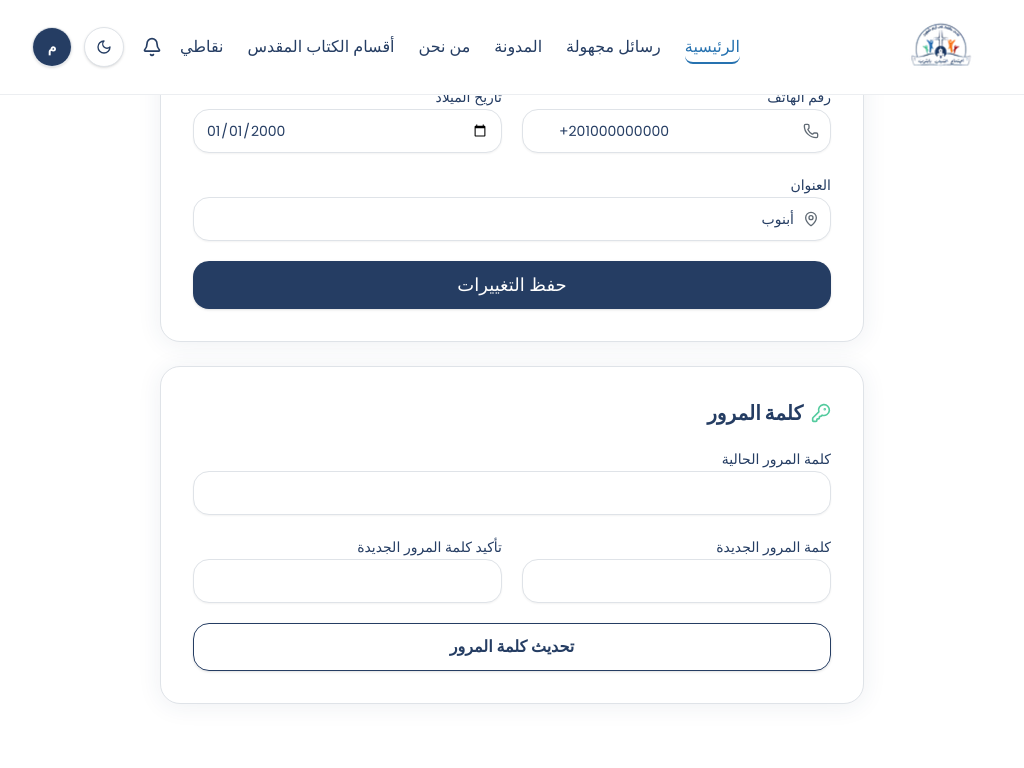
Test: the page of the profile › refuses a weak password
The width and height of the screenshot is (1024, 768).
(page scrolled)
Step 1. Type "OldPass!2026" into the password field labelled "كلمة المرور الحالية" → (512, 493), box [193,471,831,515]
(page scrolled)
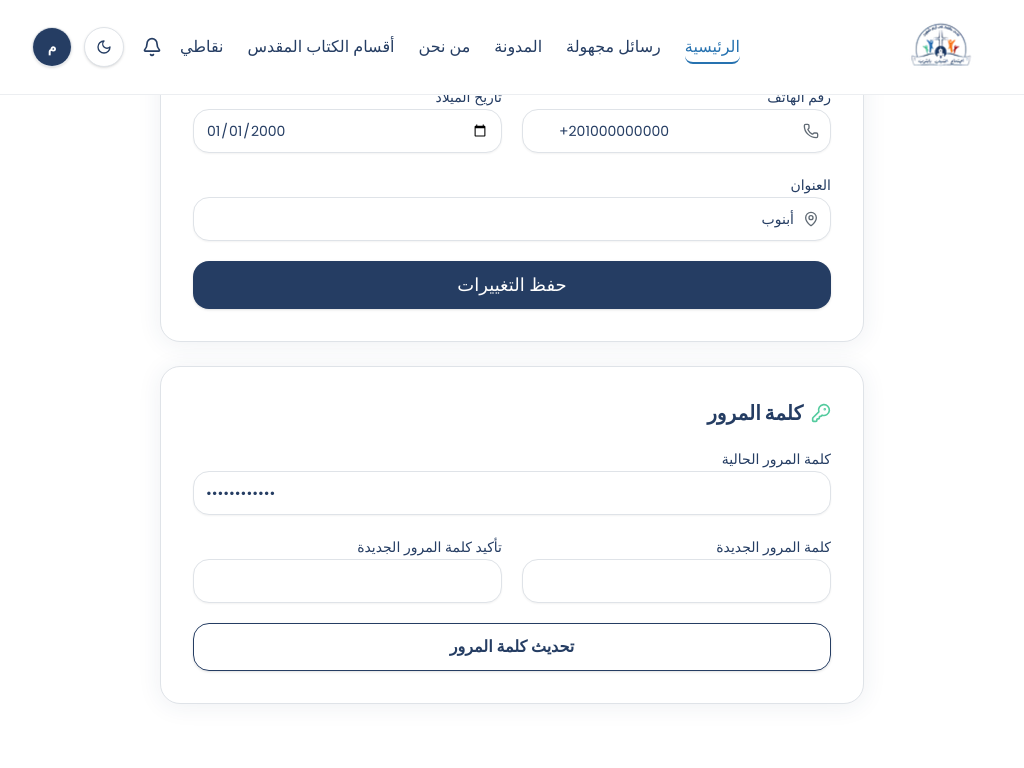
Step 2. Type "weak" into the password field labelled "كلمة المرور الجديدة" → (676, 581), box [522,559,831,603]
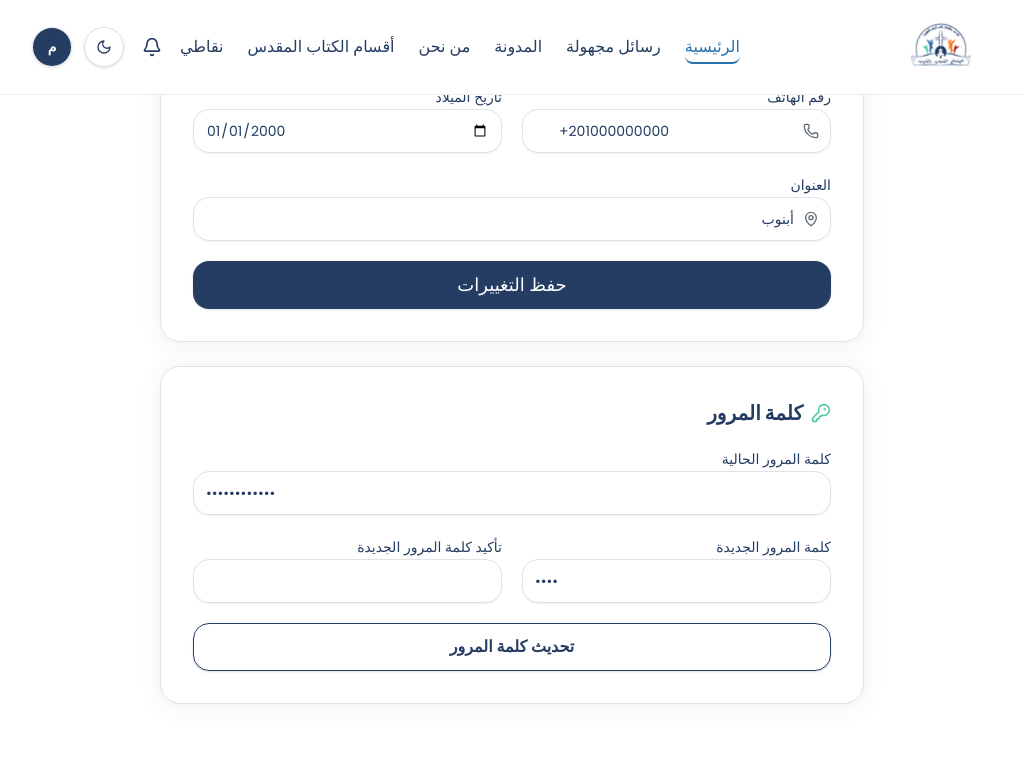
Step 3. Type "weak" into the password field labelled "تأكيد كلمة المرور الجديدة" → (348, 581), box [193,559,502,603]
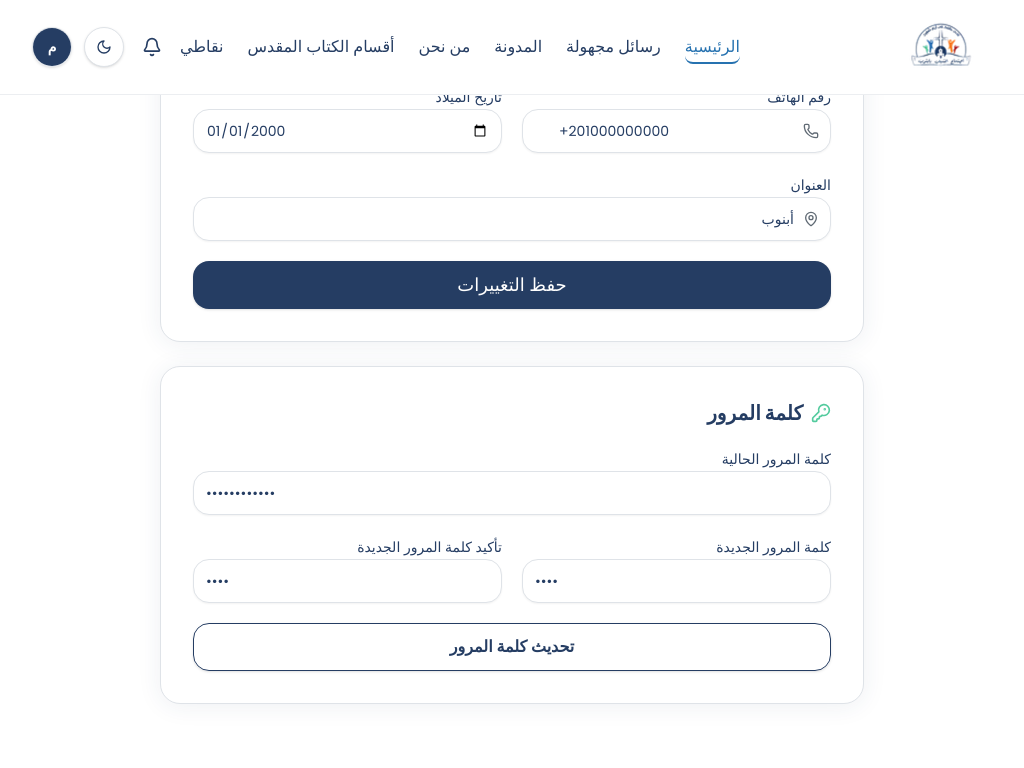
Step 4. Click the button "تحديث كلمة المرور" → (512, 647), box [193,623,831,671]
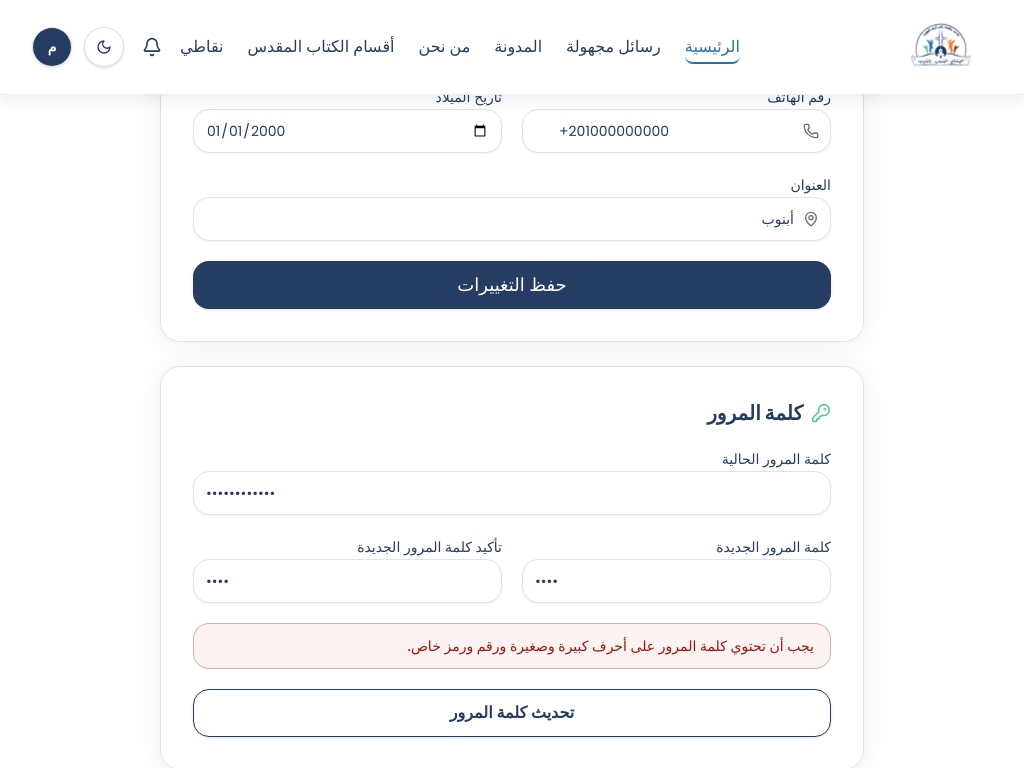
Expected: the message reads "يجب أن تحتوي كلمة المرور على أحرف كبيرة وصغيرة ورقم ورمز خاص.", [408,636,814,656]
